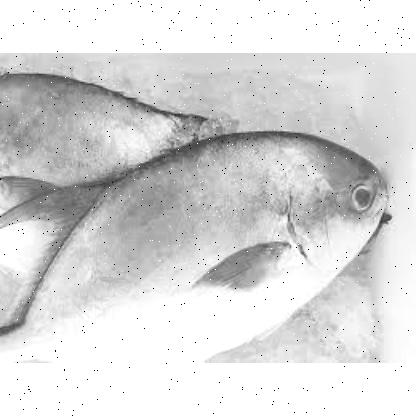ikan-pacu: (0, 123, 388, 360)
